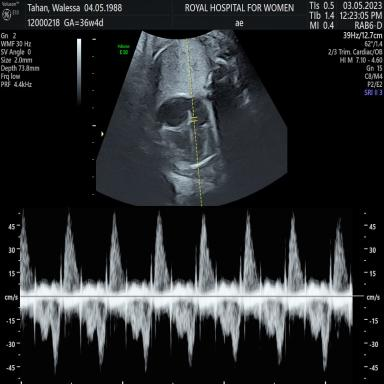Ultrasound-Waves: (24, 206, 352, 384)
